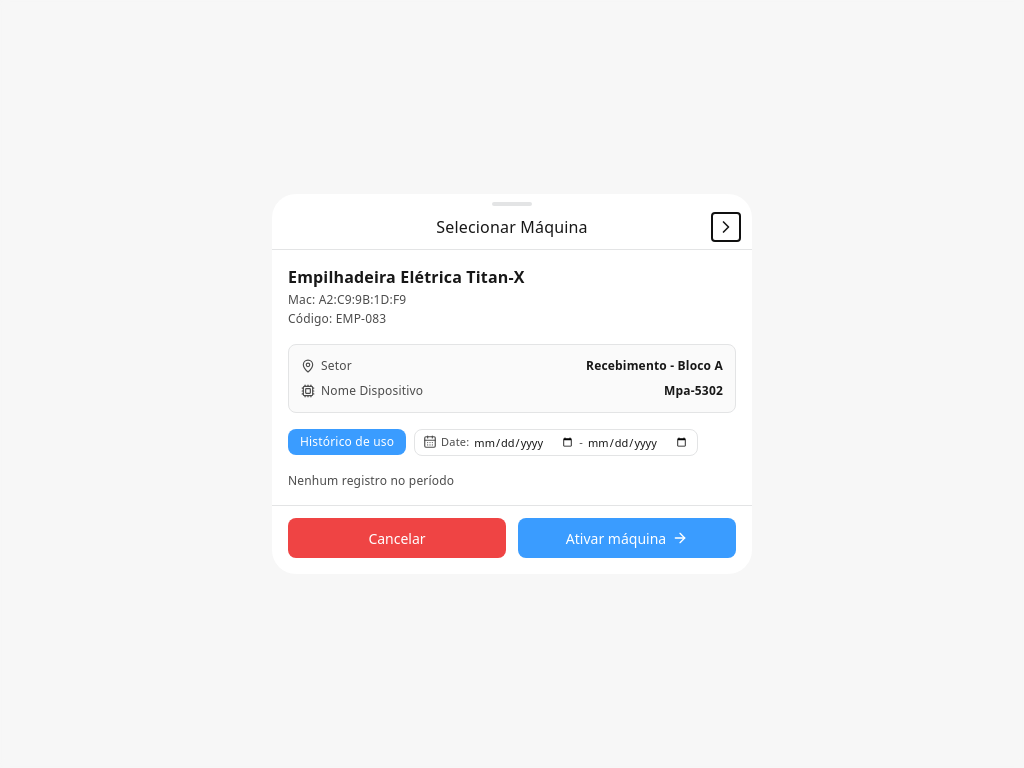
Test case: MachineDetailSheet › stays on the sheet and shows the error toast when starting fails
This screenshot has width=1024, height=768.
Click the button "Ativar máquina".
click(627, 538)  # box [518,518,736,558]
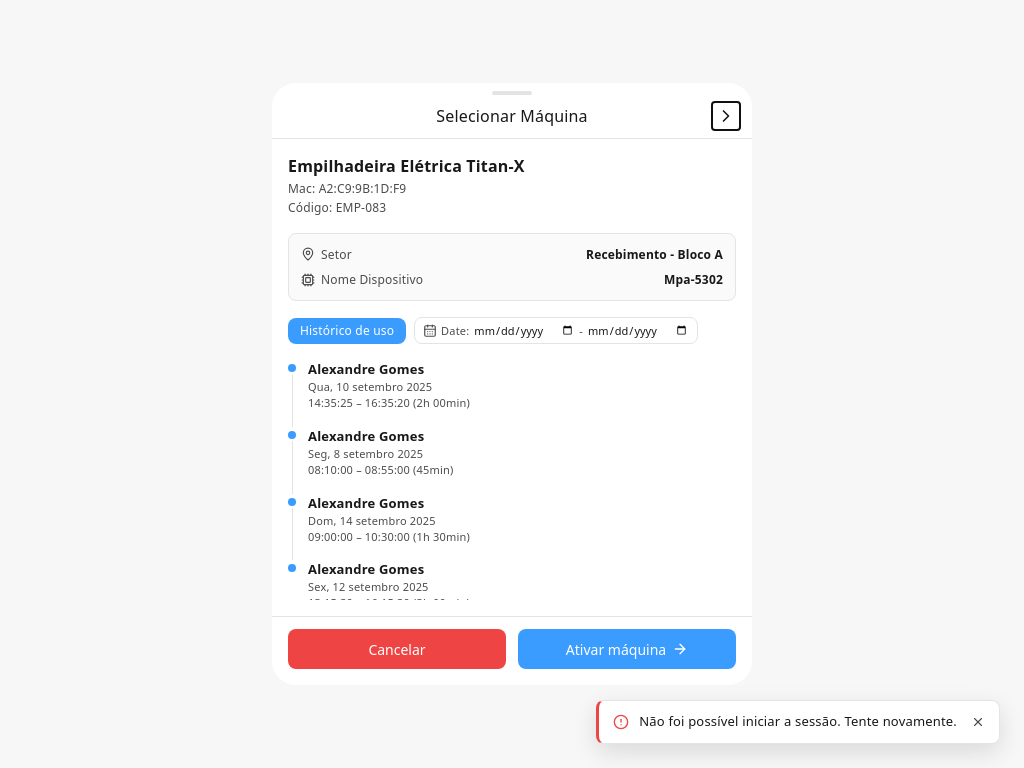
Result: the text "Não foi possível iniciar a sessão. Tente novamente." is shown at [639,713,957,731]
